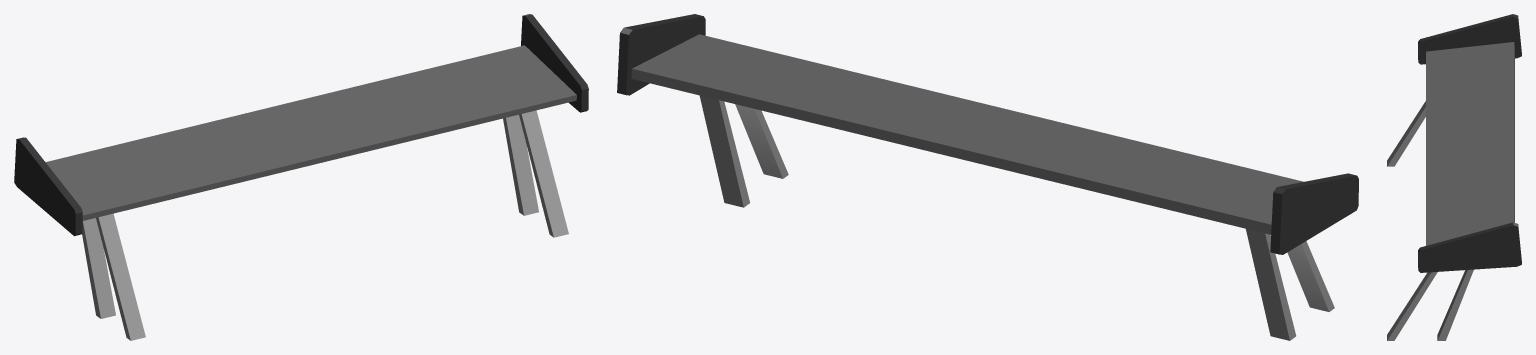
The model's file is spoiler.glb.
The picture shows the model from 3 angles, left to right: view 1: azimuth 30°, elevation 25°; view 2: azimuth 150°, elevation 25°; view 3: azimuth 270°, elevation 25°; orthographic projection. The views are drawn at different scales.
Visible parts, largest first — view 1: modSpoiler; view 2: modSpoiler; view 3: modSpoiler.
Boxes of the visible parts, bbox=[...] form: modSpoiler: bbox=[14, 14, 588, 340]; modSpoiler: bbox=[617, 14, 1358, 340]; modSpoiler: bbox=[1387, 14, 1521, 340].
Bounding box in the file's own units: 2.15 × 0.6236 × 0.5801.
1 material, 1 textured.
